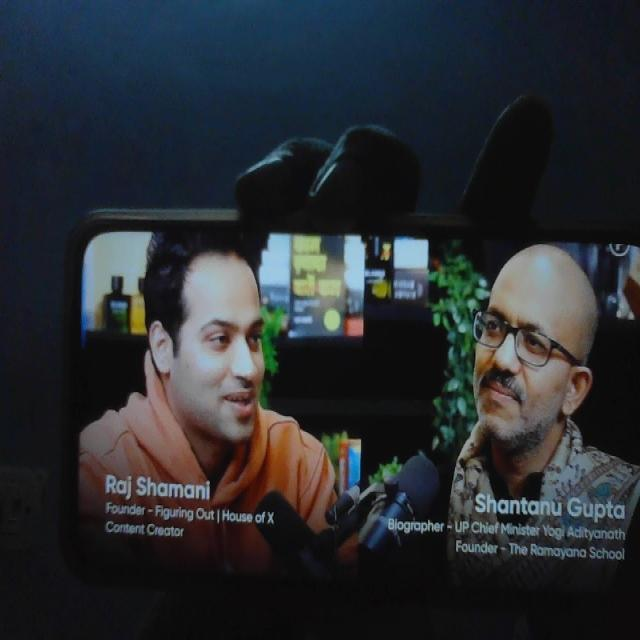fake: (152, 217, 275, 451)
